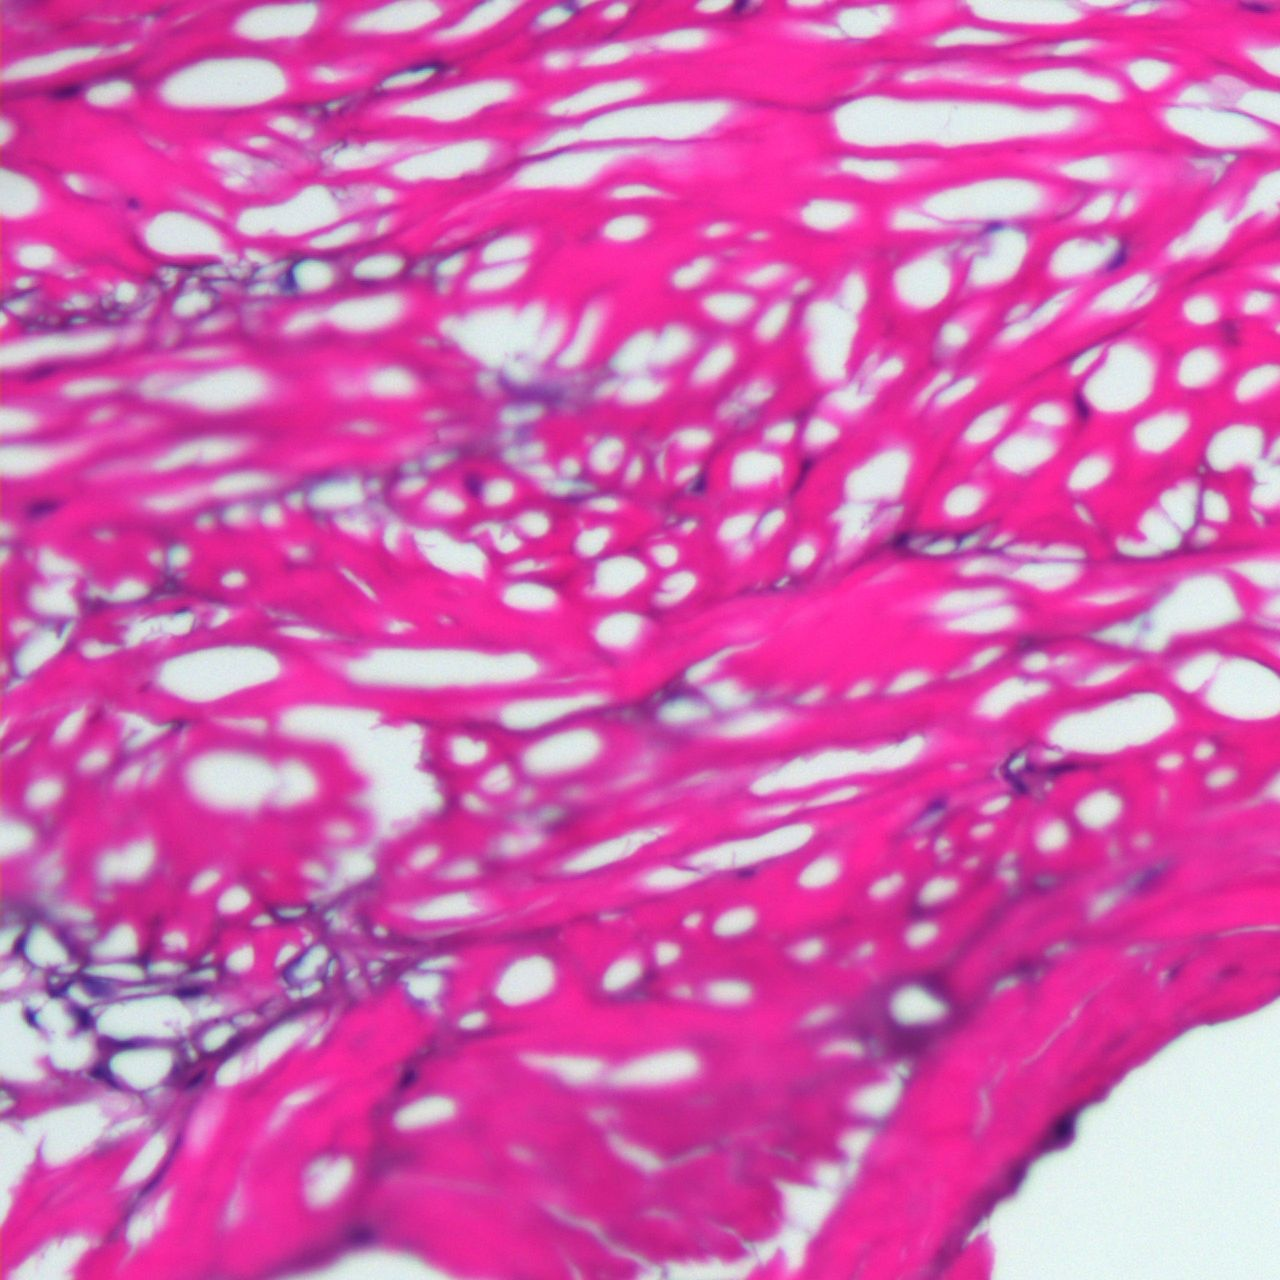nucleus-HE: (49, 81, 83, 104), (1071, 393, 1092, 418), (1054, 1114, 1071, 1141), (399, 1067, 418, 1090), (467, 474, 483, 495), (692, 475, 708, 493)
